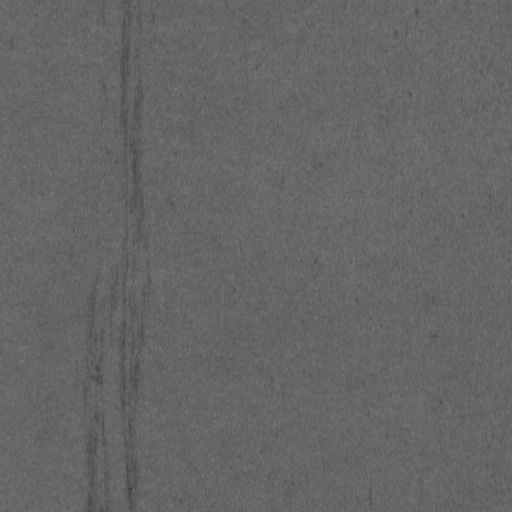zongxianghuashang: (118, 2, 147, 512), (85, 270, 106, 512)
